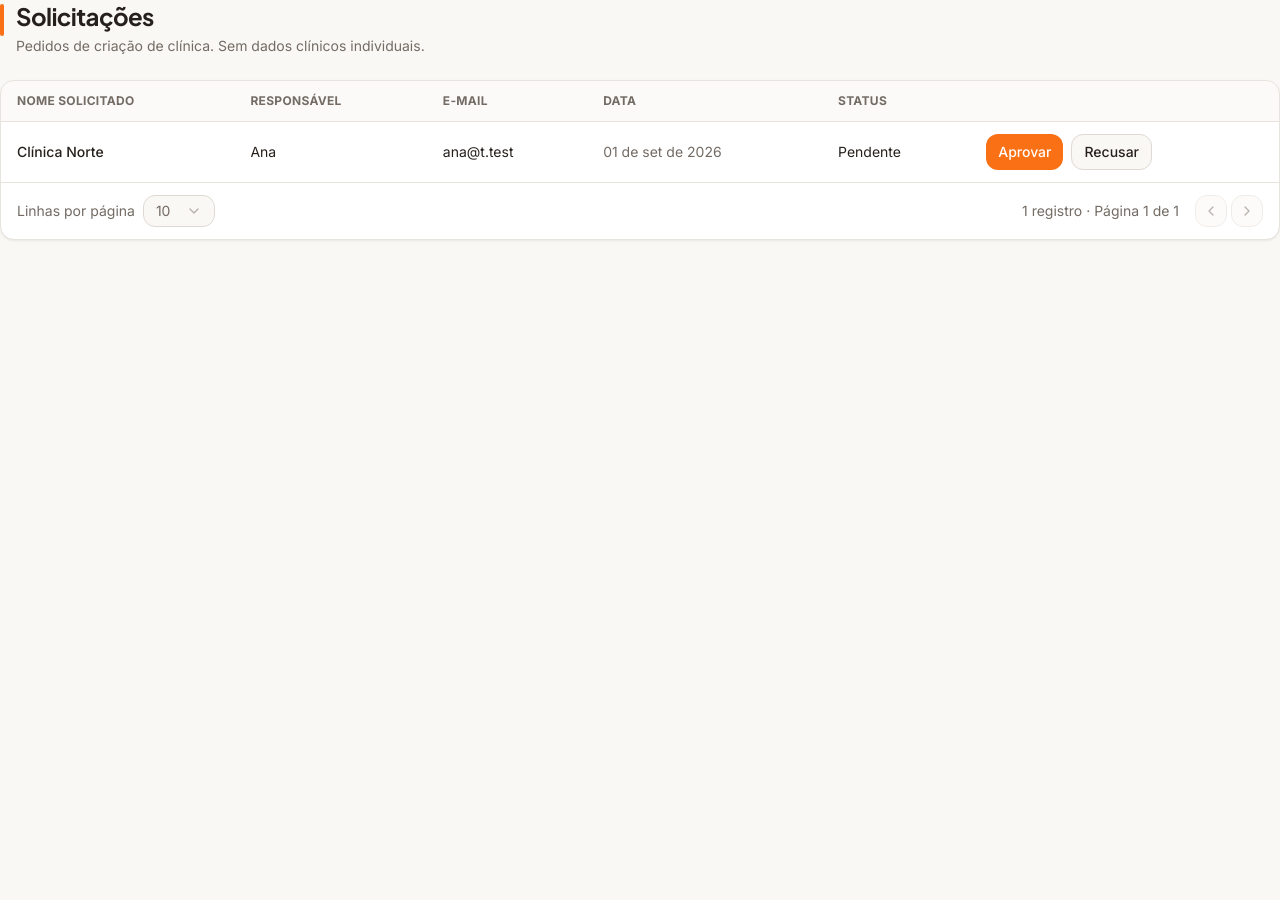
Test: PlatformRequestsPage › recusa pede motivo opcional
The width and height of the screenshot is (1280, 900).
Click the button "Recusar": (1112, 152) [1072,134,1152,170]
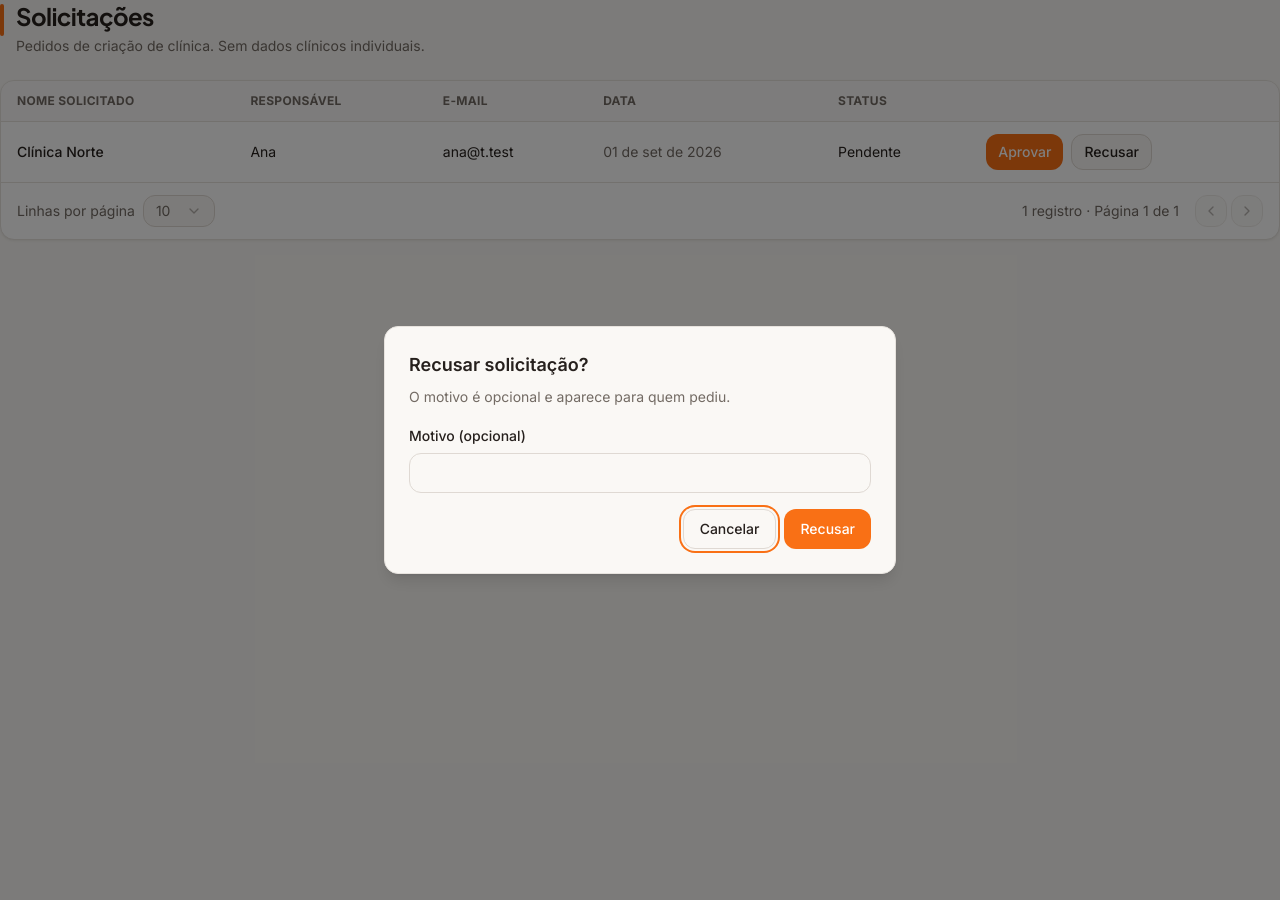
Check: the field labelled "Motivo (opcional)" is shown, box [409,453,871,493]
